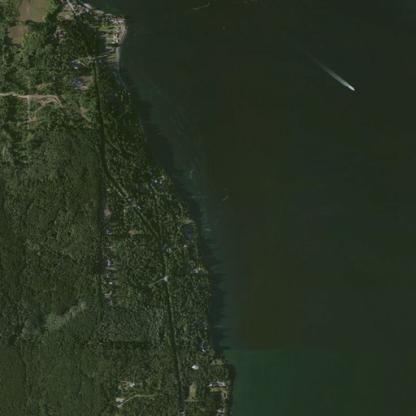ship: (342, 78, 359, 95)
